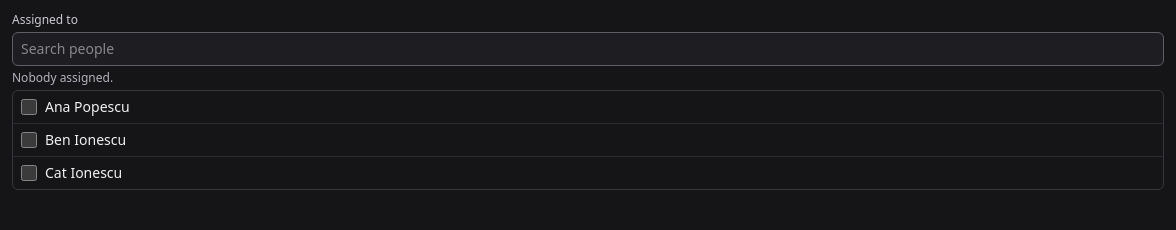
Test: AssigneePicker › ticks several people and keeps the order they were ticked in (the first leads)
This screenshot has width=1176, height=230.
Click the checkbox labelled "Cat Ionescu" at (29, 173), box [21,165,37,181]
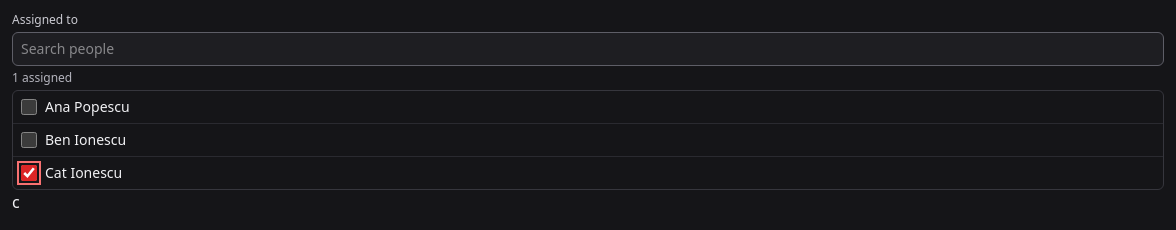
Click the checkbox labelled "Ana Popescu" at (29, 107), box [21,99,37,115]
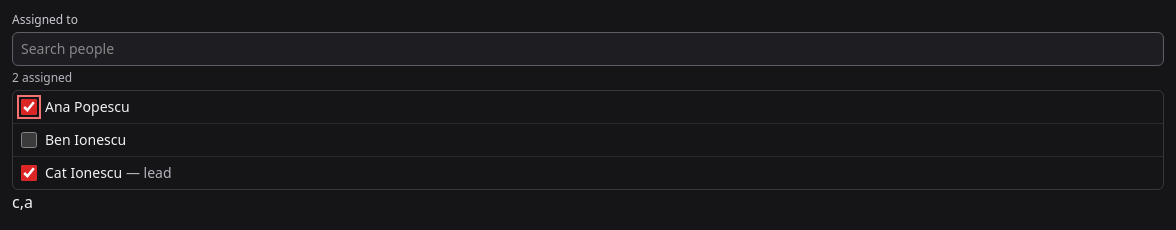
Now the text with test id "value" reads "c,a", box [12,191,33,213]
Now the text "2 assigned" is shown, box [12,69,72,86]
Now the text "— lead" is shown, box [122,163,172,182]
Click the checkbox labelled "Cat Ionescu — lead" at (29, 173), box [21,165,37,181]
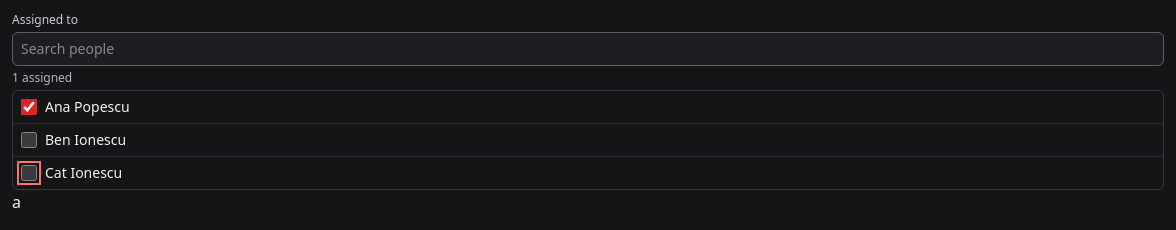
Now the text with test id "value" reads "a", box [12,191,21,213]
